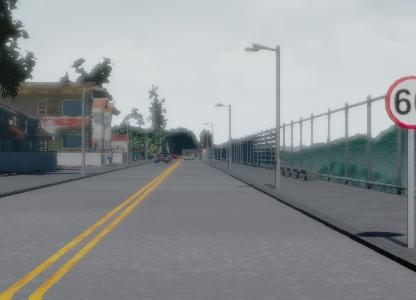Speed_60: (383, 72, 416, 130)
